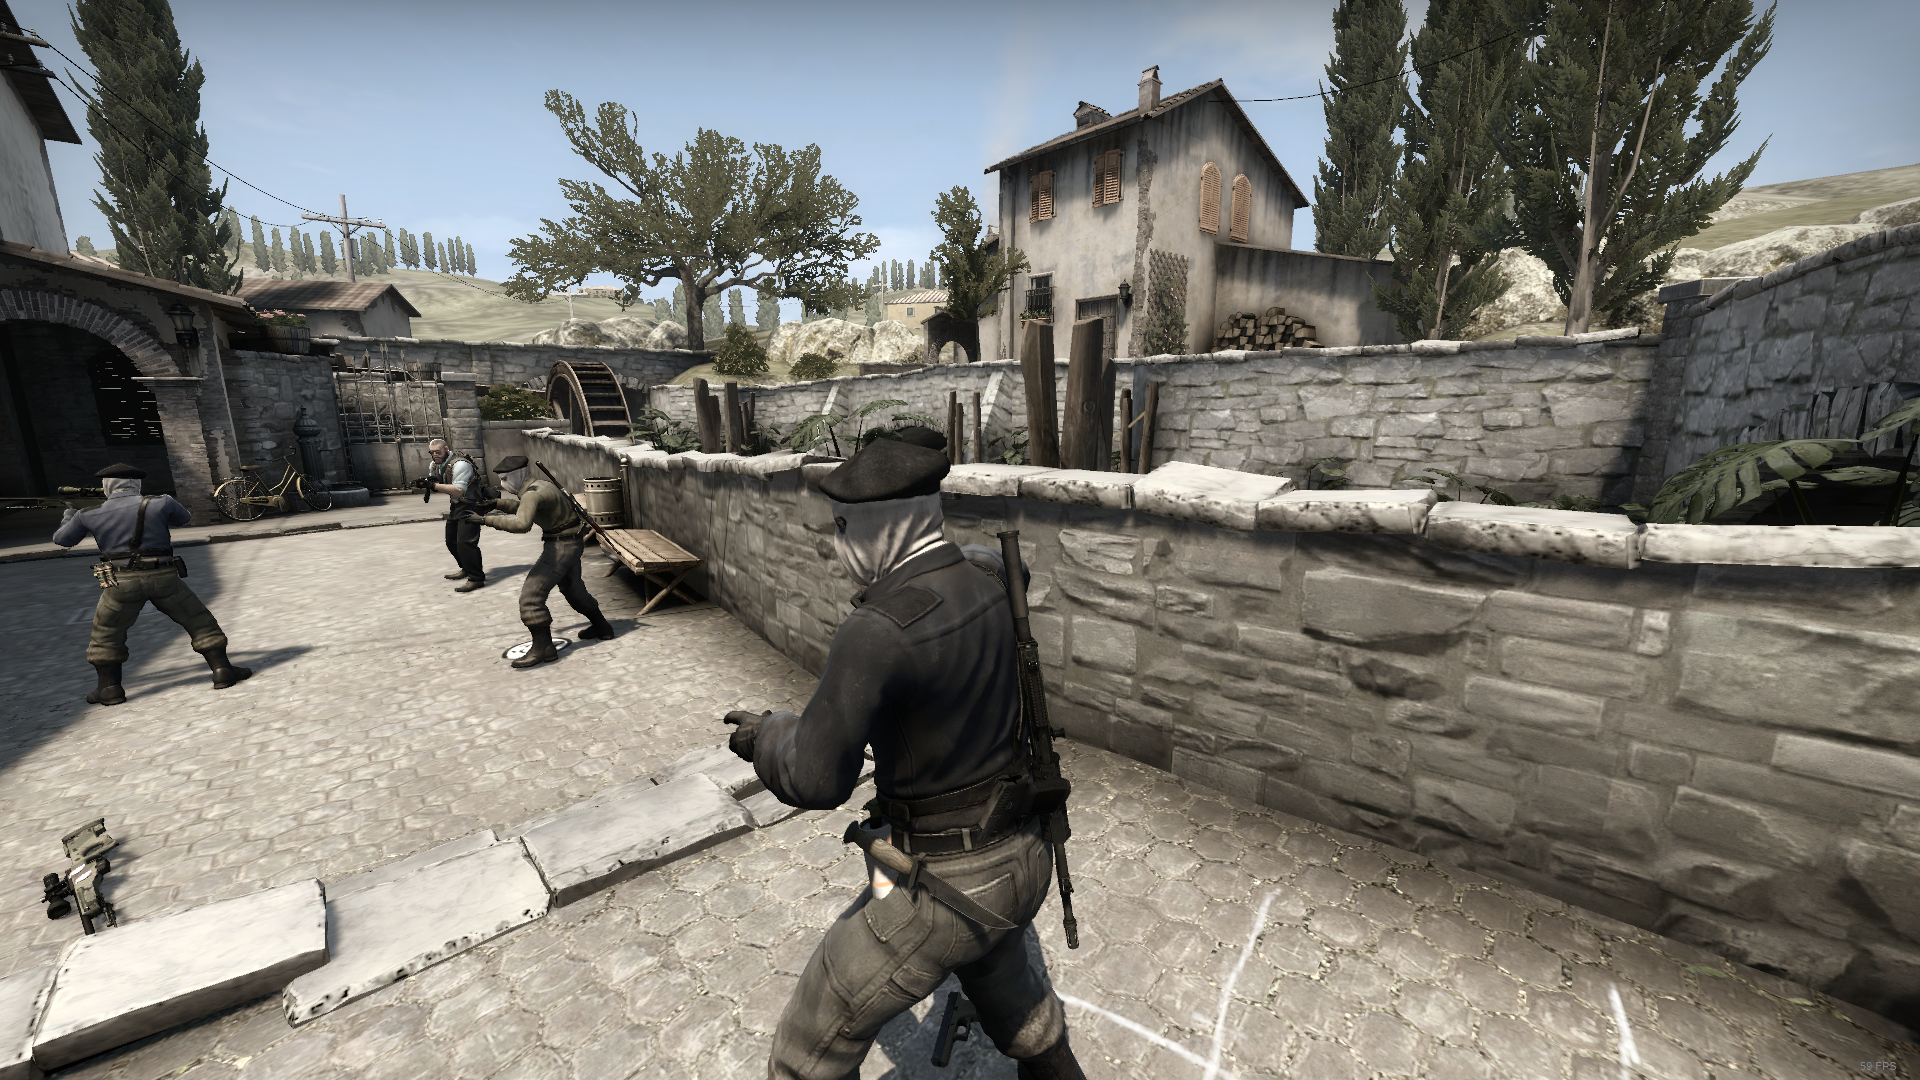t: (727, 436, 1087, 1080), (54, 463, 255, 705), (463, 454, 616, 669)
